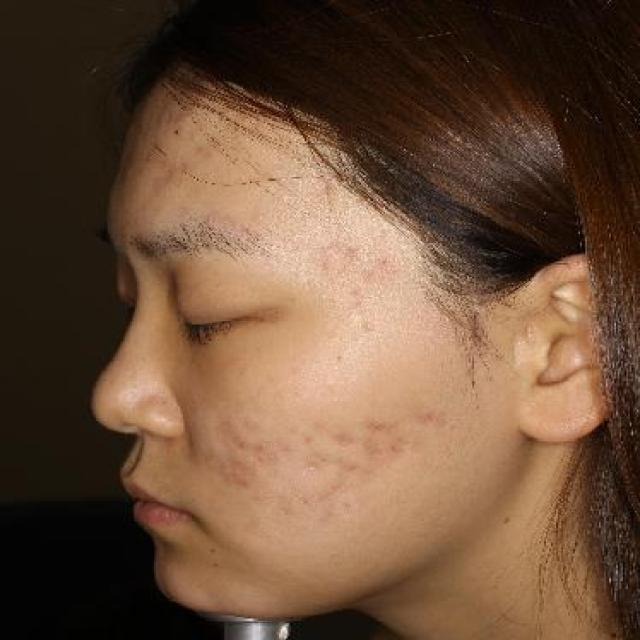blackheads: (205, 557, 226, 572), (203, 541, 220, 557)
papules: (363, 415, 392, 437)
